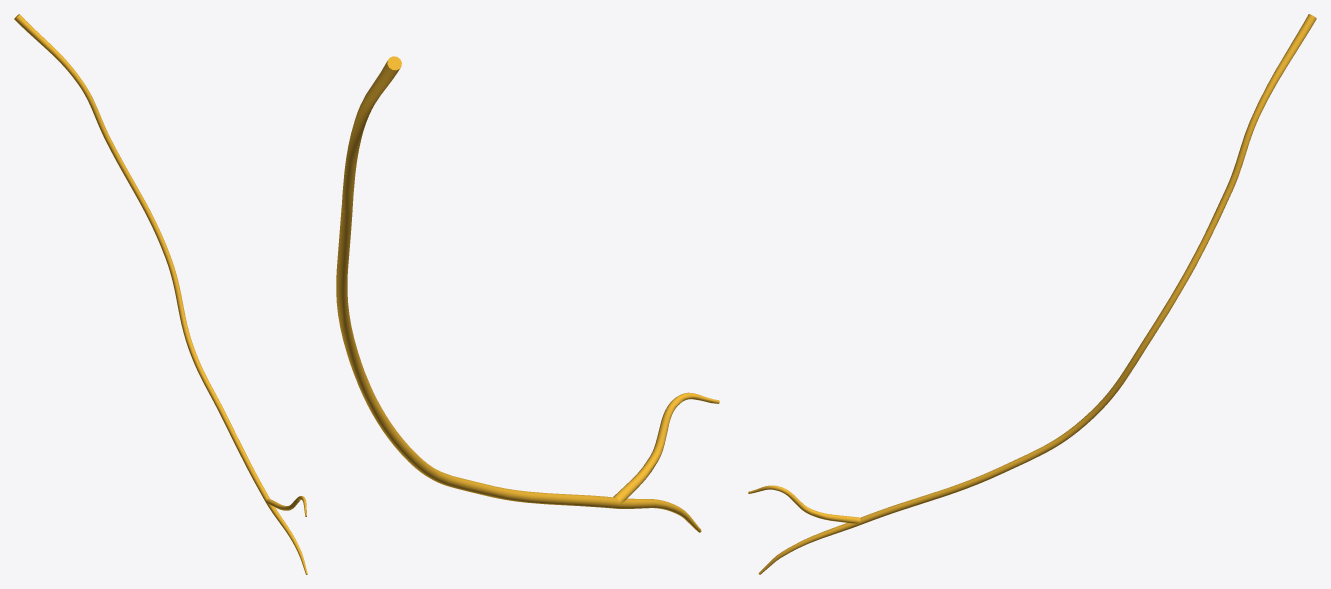
The model's file is nervoso-anterior-division-of-mandibular-nerve-l.glb.
3 views of the same model, side by side, from view 1: azimuth 30°, elevation 25°; view 2: azimuth 150°, elevation 25°; view 3: azimuth 270°, elevation 25° (orthographic). The views are drawn at different scales.
Parts seen in each view (by area): view 1: Buccal nerve.l, Anterior division of mandibular nerve.l; view 2: Buccal nerve.l, Anterior division of mandibular nerve.l; view 3: Buccal nerve.l, Anterior division of mandibular nerve.l.
Part boxes in pixels (x1,y1,x2,y2): Buccal nerve.l: (105,136,307,574); Anterior division of mandibular nerve.l: (14,14,109,138); Buccal nerve.l: (336,208,719,532); Anterior division of mandibular nerve.l: (341,56,401,212); Buccal nerve.l: (748,188,1232,574); Anterior division of mandibular nerve.l: (1226,14,1316,190).
Size of the model in its own units: 0.0113 by 0.0485 by 0.0481.
